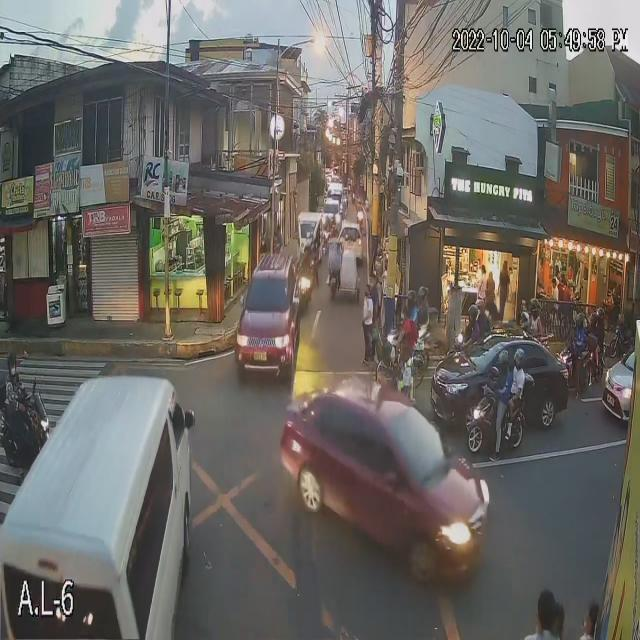helmet: (516, 309, 533, 334), (6, 350, 20, 375), (496, 349, 511, 371), (570, 311, 588, 329), (474, 298, 490, 318), (513, 349, 527, 371), (528, 296, 545, 314), (404, 288, 418, 308), (466, 303, 480, 322), (419, 287, 432, 303), (594, 309, 605, 320)
motorcycle: (464, 389, 534, 468), (1, 394, 49, 469), (549, 346, 602, 392)
rider: (3, 340, 28, 425), (510, 347, 532, 422), (493, 347, 513, 428), (473, 285, 498, 334), (587, 302, 611, 346), (567, 305, 587, 356), (458, 305, 480, 344), (526, 291, 548, 329), (414, 281, 431, 328), (518, 301, 533, 339), (403, 287, 414, 329)
